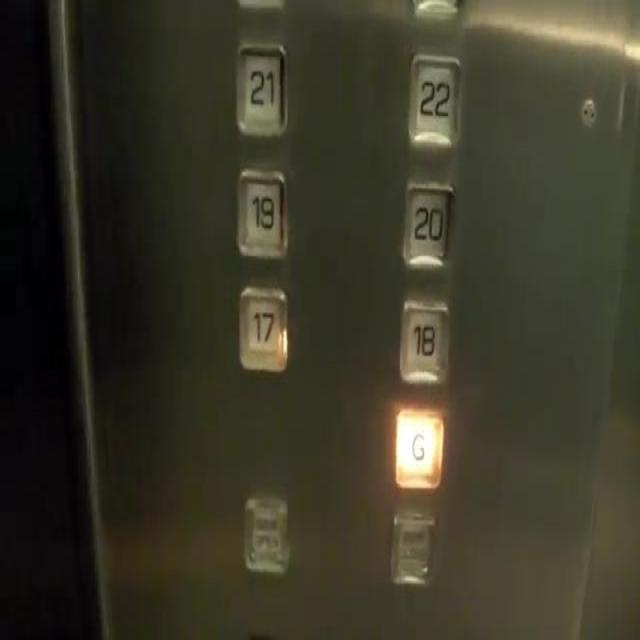17: (238, 285, 286, 372)
18: (398, 297, 451, 384)
19: (235, 166, 287, 258)
20: (403, 178, 455, 270)
21: (234, 41, 286, 135)
22: (408, 53, 462, 148)
G: (393, 407, 444, 489)
text_blur: (389, 509, 436, 594), (243, 496, 290, 572)
